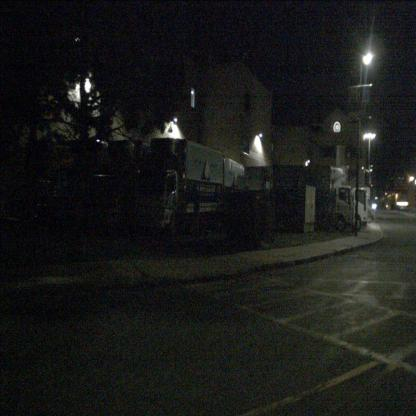vehicle-truck: (43, 137, 218, 243), (86, 138, 235, 240), (136, 138, 245, 238), (284, 165, 370, 234), (273, 165, 354, 233)
